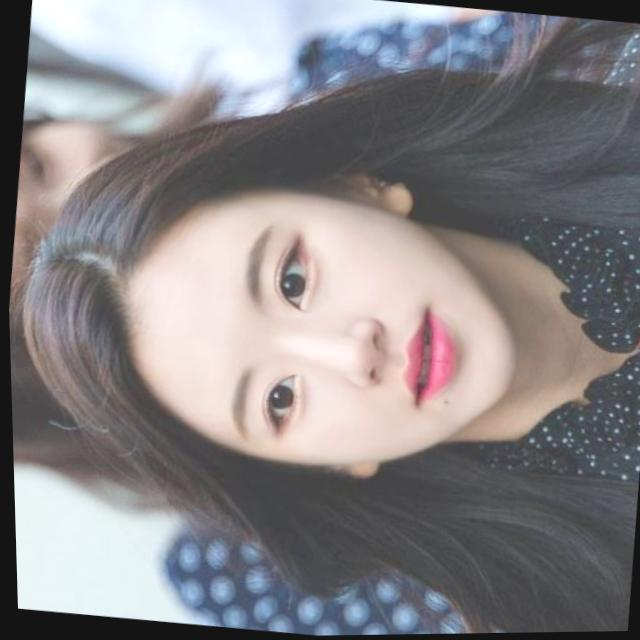face: (113, 169, 535, 487)
